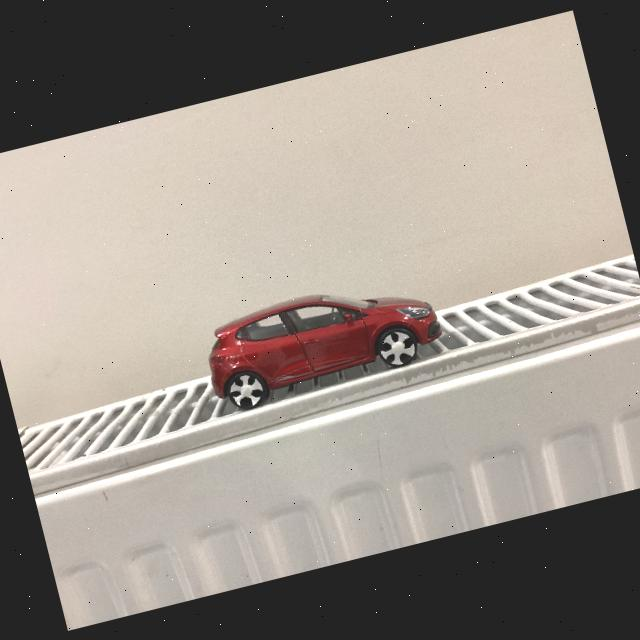Yanlis_Jant: (375, 326, 419, 369), (224, 370, 266, 410)
